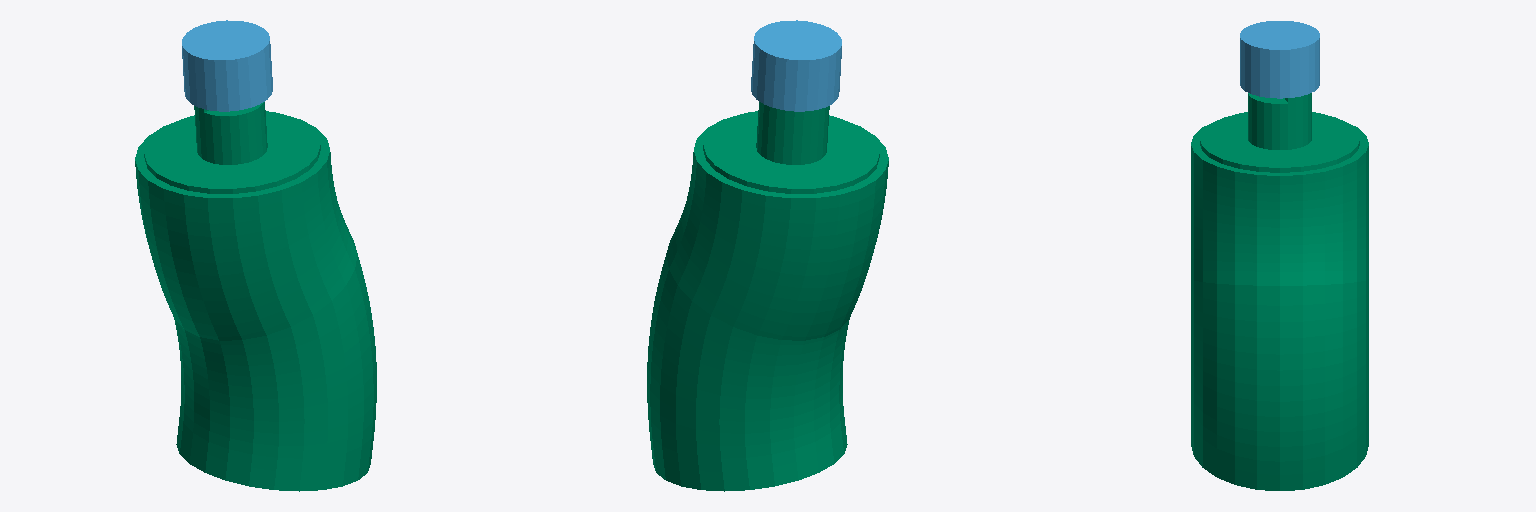
The robot description file, URDF, robot "partnet_2cc108080535bc51e7a14f6d159dcd47":
<?xml version="1.0" ?>
<robot name="partnet_2cc108080535bc51e7a14f6d159dcd47">
	<link name="base"/>
	<link name="link_0">
		<visual name="lid-8">
			<origin xyz="0.000805884093152467 0.004672248248342605 -0.07488137958866185"/>
			<geometry>
				<mesh filename="textured_objs/original-17.obj"/>
			</geometry>
		</visual>
		<collision>
			<origin xyz="0.000805884093152467 0.004672248248342605 -0.07488137958866185"/>
			<geometry>
				<mesh filename="textured_objs/original-17.obj"/>
			</geometry>
		</collision>
	</link>
	<joint name="joint_0" type="prismatic">
		<origin xyz="-0.000805884093152467 -0.004672248248342605 0.07488137958866185"/>
		<axis xyz="-9.998538438076892e-06 0.9980590834615828 0.06227411837878444"/>
		<child link="link_0"/>
		<parent link="link_1"/>
		<limit lower="0.008000000000000007" upper="0.22799999999999998"/>
	</joint>
	<link name="link_1">
		<visual name="body-6">
			<origin xyz="0 0 0"/>
			<geometry>
				<mesh filename="textured_objs/new-1.obj"/>
			</geometry>
		</visual>
		<visual name="neck-7">
			<origin xyz="0 0 0"/>
			<geometry>
				<mesh filename="textured_objs/new-0.obj"/>
			</geometry>
		</visual>
		<collision>
			<origin xyz="0 0 0"/>
			<geometry>
				<mesh filename="textured_objs/new-1.obj"/>
			</geometry>
		</collision>
		<collision>
			<origin xyz="0 0 0"/>
			<geometry>
				<mesh filename="textured_objs/new-0.obj"/>
			</geometry>
		</collision>
	</link>
	<joint name="joint_1" type="fixed">
		<origin rpy="1.570796326794897 0 -1.570796326794897" xyz="0 0 0"/>
		<child link="link_1"/>
		<parent link="base"/>
	</joint>
</robot>

--- Facts derived from the render (not from the file) ---
Views: 3 orthographic renders of the robot side by side, from view 1: azimuth 30°, elevation 25°; view 2: azimuth 150°, elevation 25°; view 3: azimuth 270°, elevation 25°.
Robot: partnet_2cc108080535bc51e7a14f6d159dcd47 — 3 links, 2 joints (1 prismatic, 1 fixed); root link base; default pose: joints at zero except 1 at the middle of their limits (joint_0 = 0.118).
Visible links, largest first — view 1: link_1, link_0; view 2: link_1, link_0; view 3: link_1, link_0.
Link boxes in pixels (<box>): link_1: <box>135,102,376,491</box>; link_0: <box>182,20,272,111</box>; link_1: <box>647,102,888,491</box>; link_0: <box>751,20,841,111</box>; link_1: <box>1191,93,1368,490</box>; link_0: <box>1240,21,1319,98</box>.
Bounding box of the posed robot: 1.01 × 0.7936 × 1.96 m (x, y, z).
Meshes: 3 distinct files referenced, 3 mesh visuals loaded (3 OBJ).